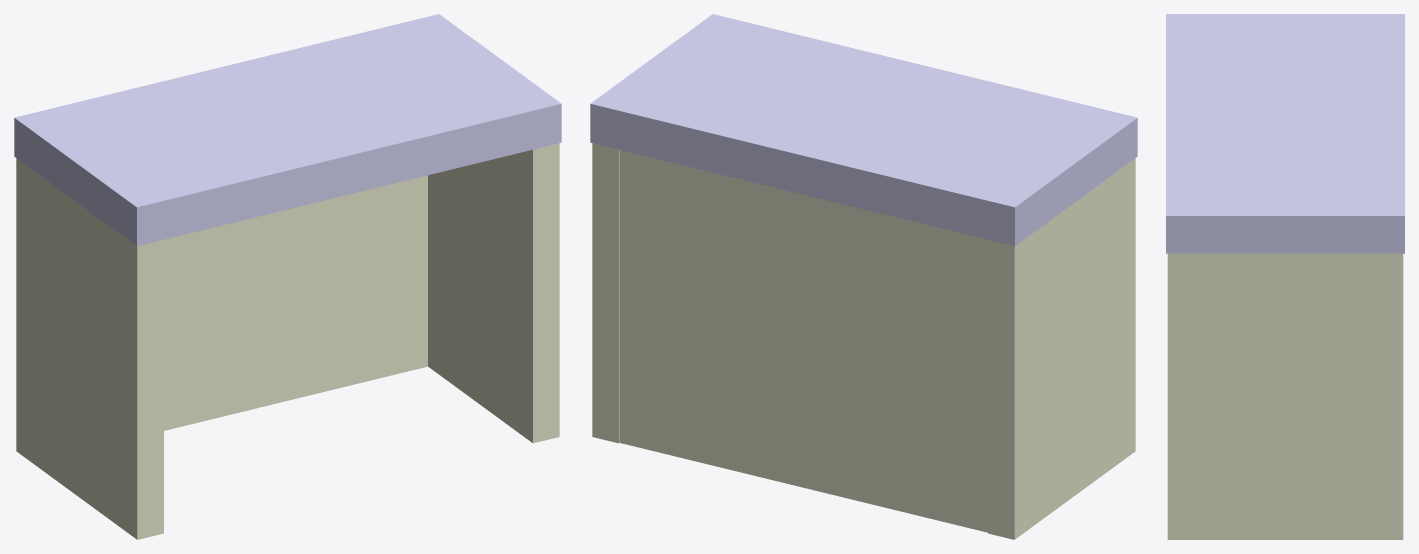
Rendered from desk3_purple.glb.
3 renders of one model, left to right at view 1: azimuth 30°, elevation 25°; view 2: azimuth 150°, elevation 25°; view 3: azimuth 270°, elevation 25°, orthographic. The views are drawn at different scales.
Parts seen in each view (by area): view 1: Box002; view 2: Box002; view 3: Box002.
Boxes of the visible parts, x1=… form: Box002: x1=14, y1=14, x2=561, y2=539; Box002: x1=590, y1=14, x2=1137, y2=539; Box002: x1=1166, y1=14, x2=1404, y2=539.
Size of the model in its own units: 0.16 by 0.12 by 0.08.
1 material, 1 textured.
